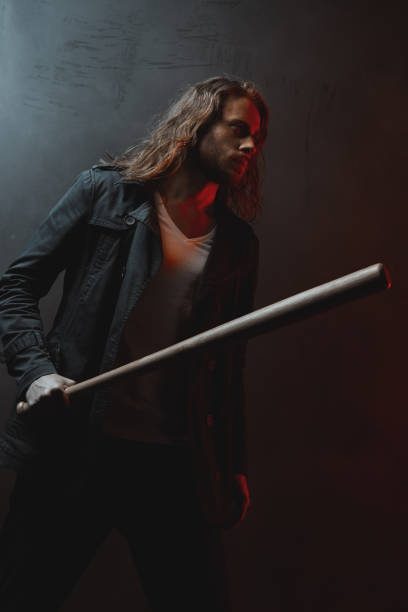bita: (27, 268, 389, 412)
